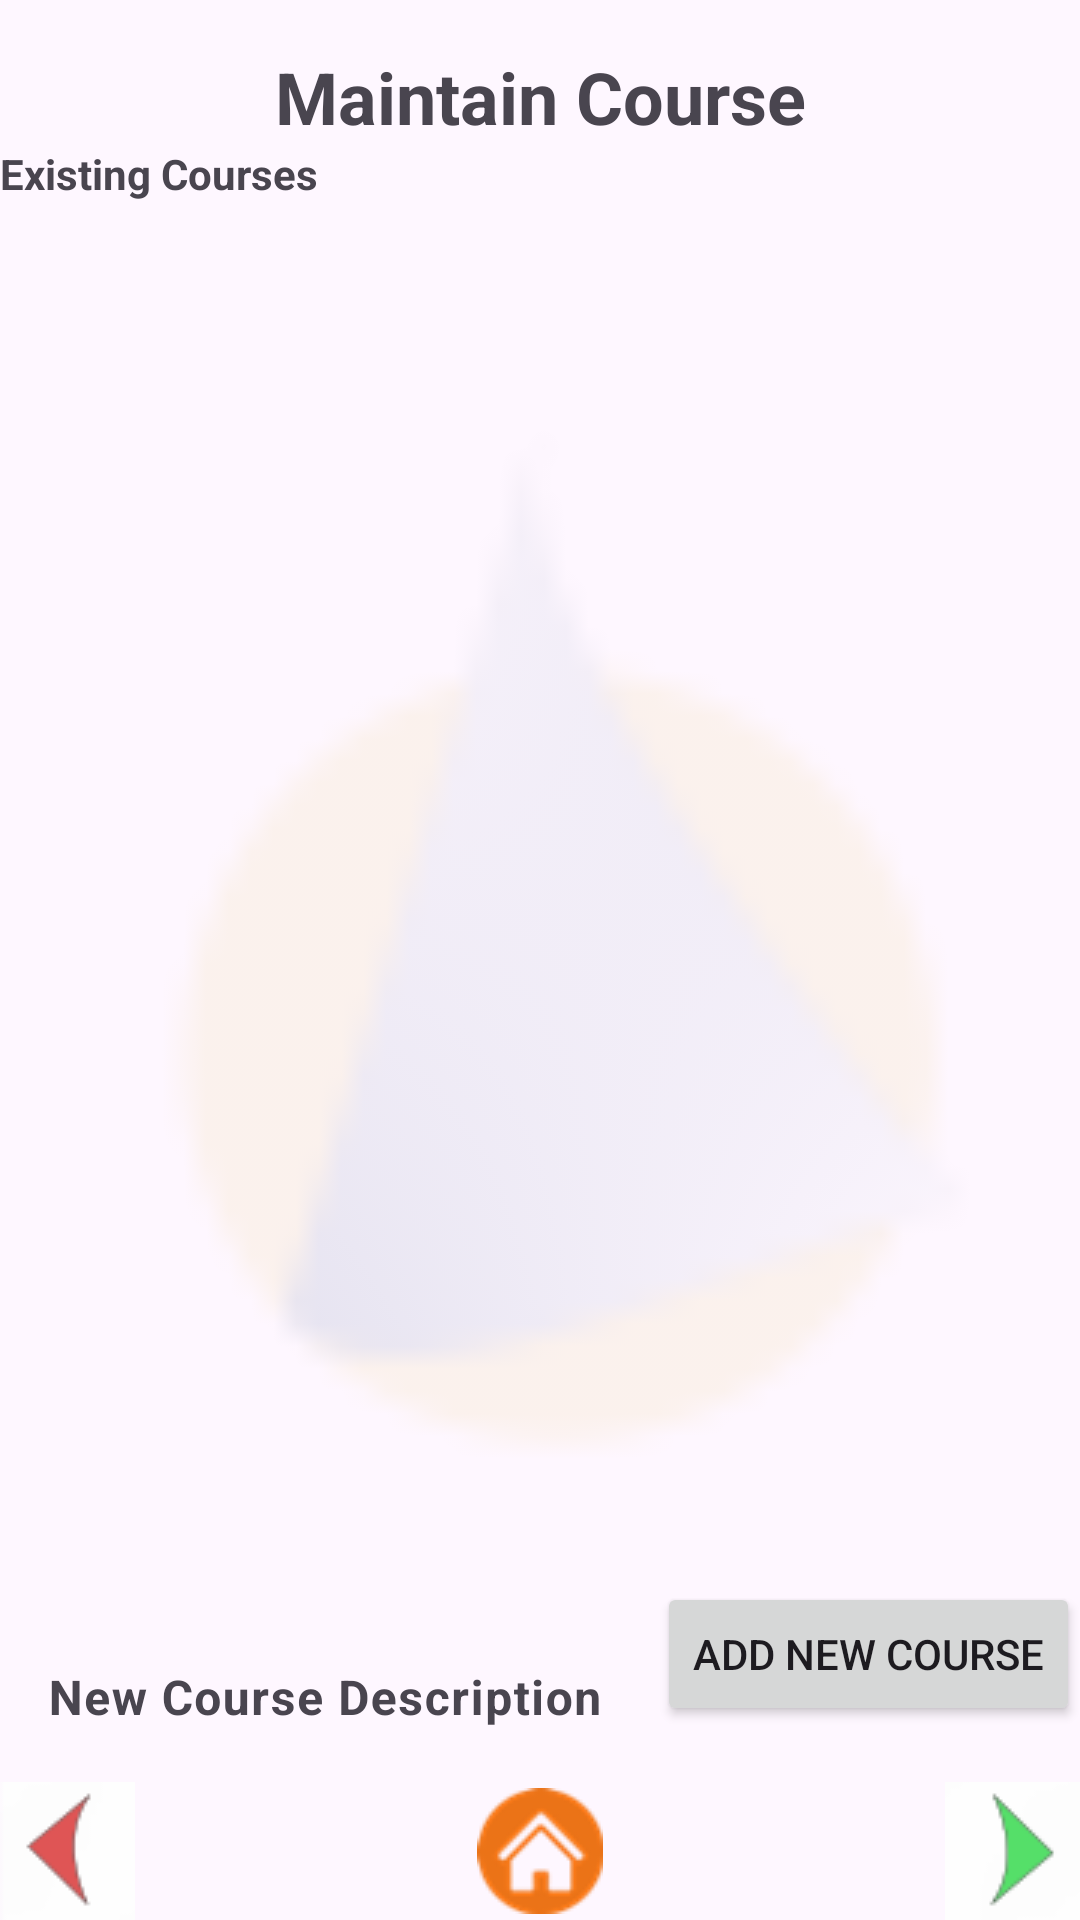

Icons on this 1080px x 1920px Android screen, each with its box as (x1, y1, x2, y2):
Home: (477, 1788, 603, 1914)
Left Nav: (26, 1793, 91, 1905)
Right Nav: (990, 1793, 1054, 1905)
